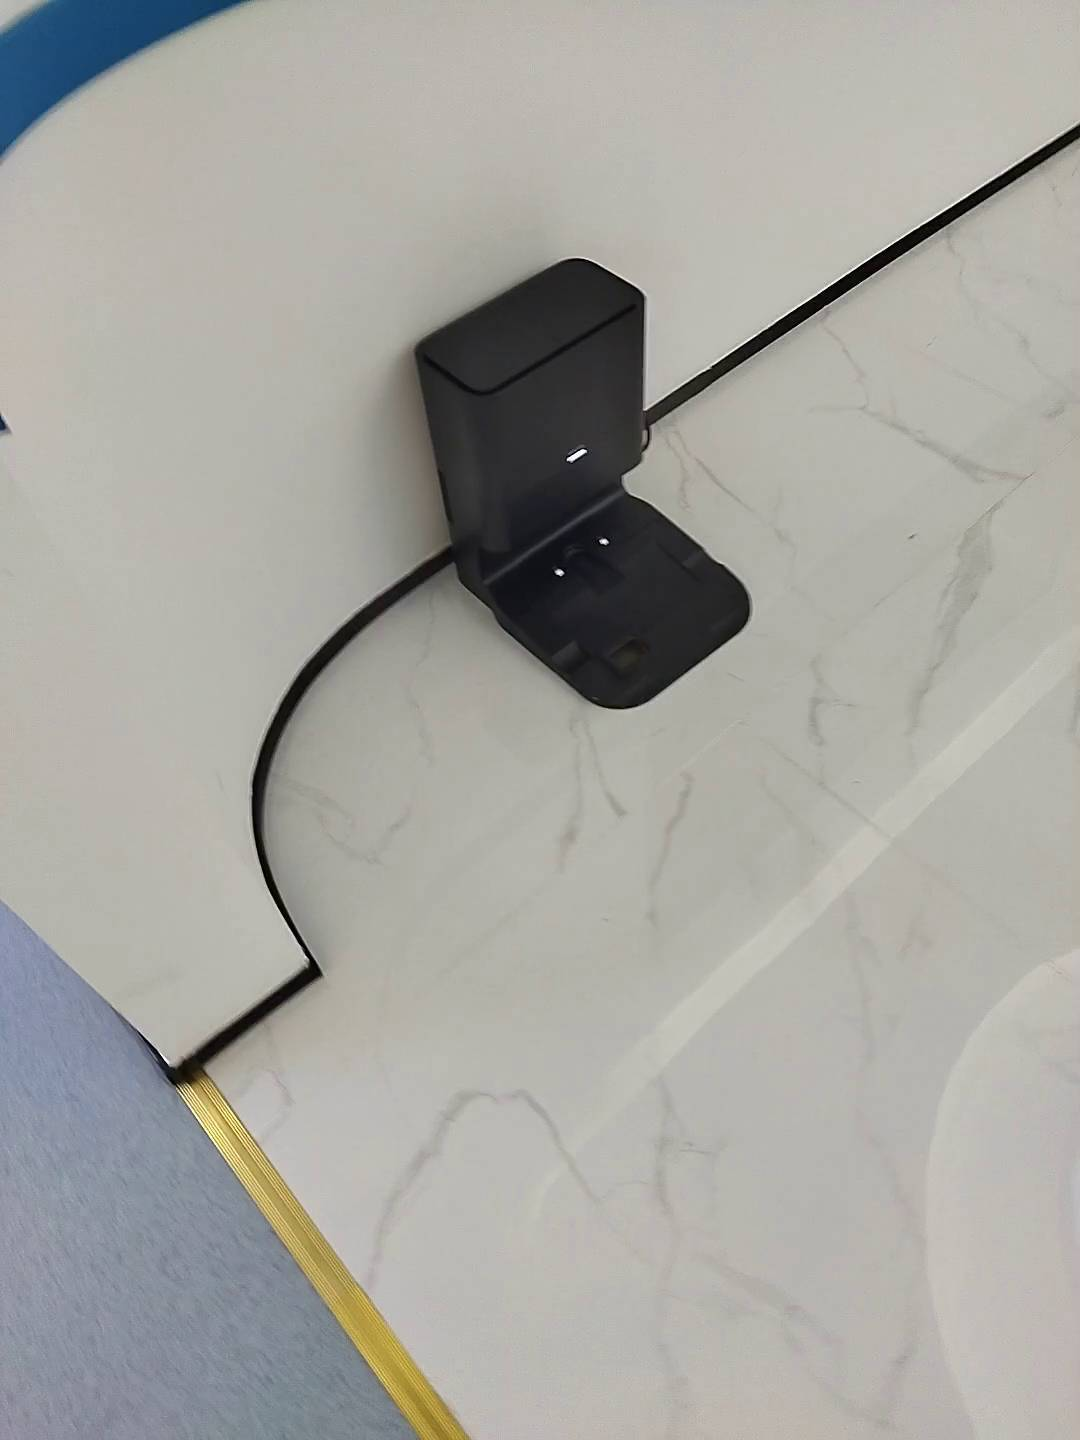dust collecting barrel: (413, 259, 752, 709)
